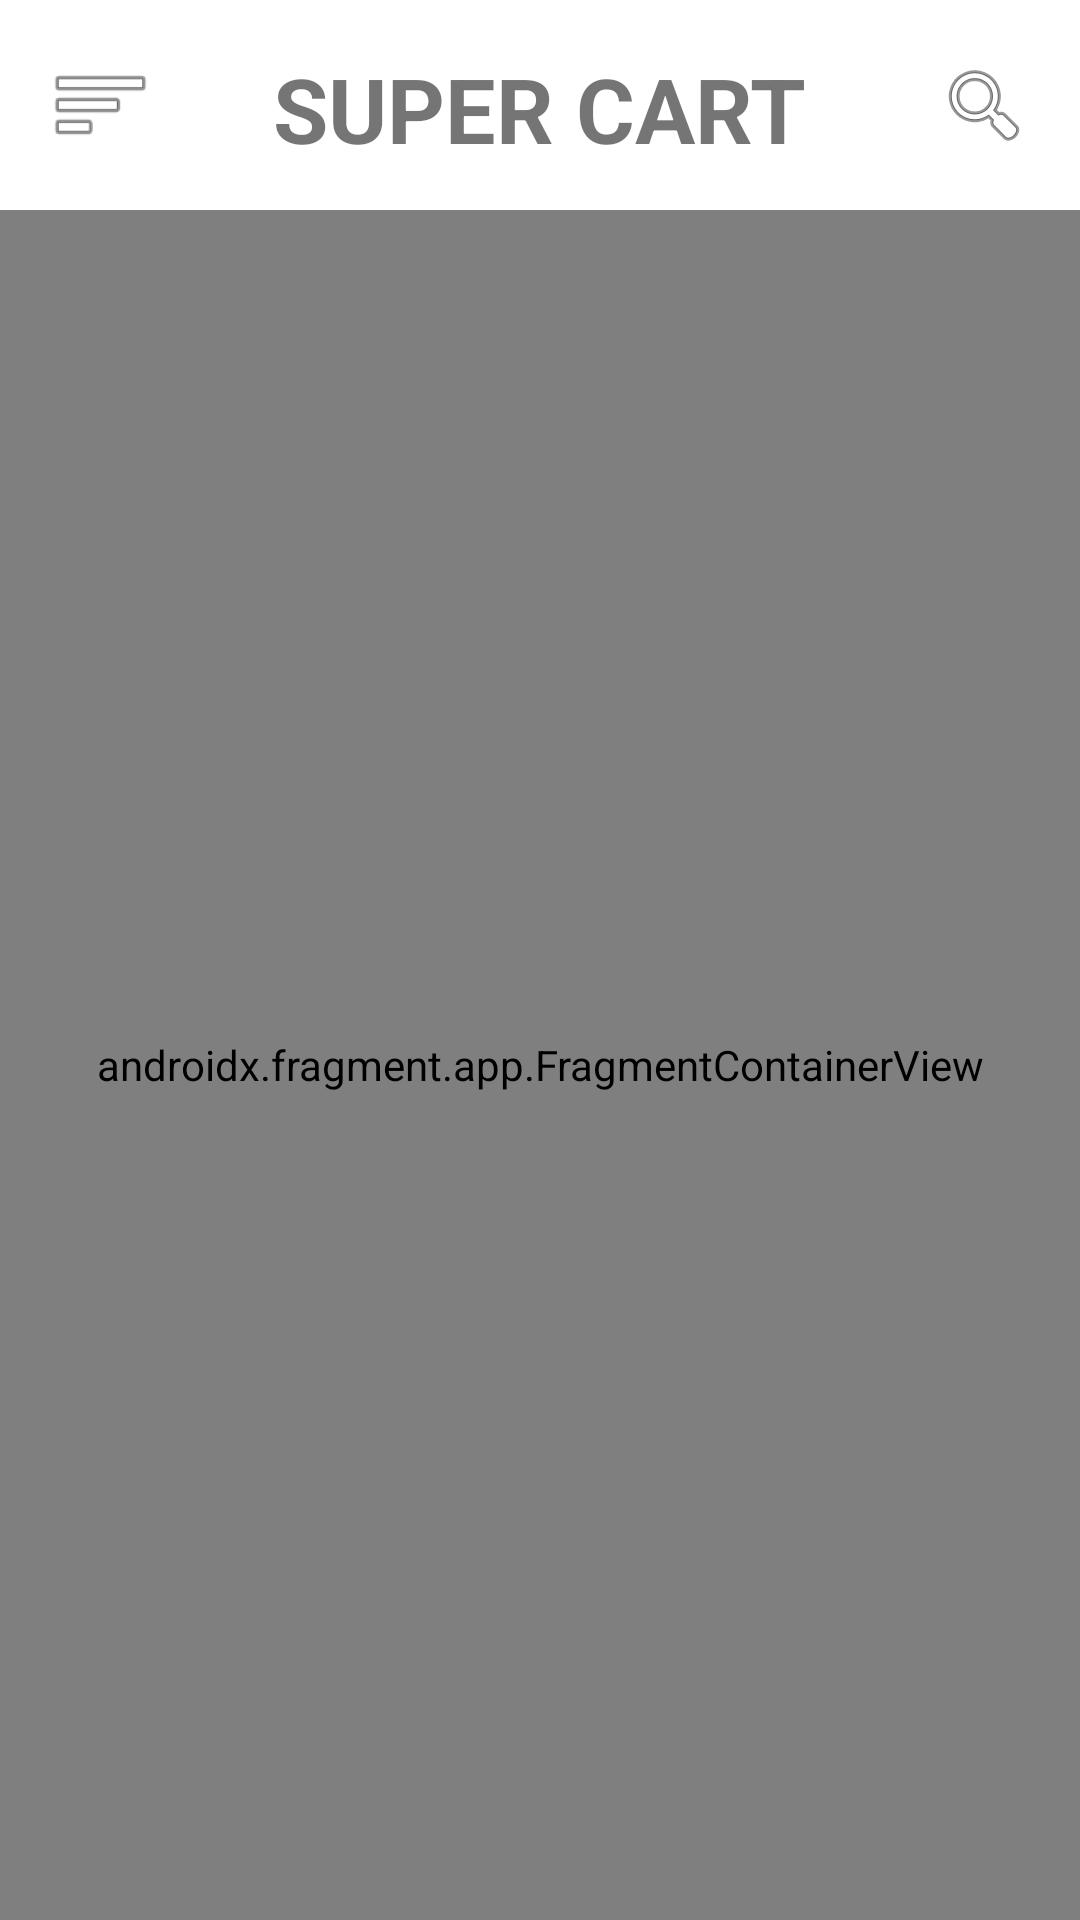

Icons on this 1080w x 1920h Android screen, each with its box as (x1, y1, x2, y2):
search: (948, 70, 1020, 141)
sort by size: (55, 76, 146, 135)
